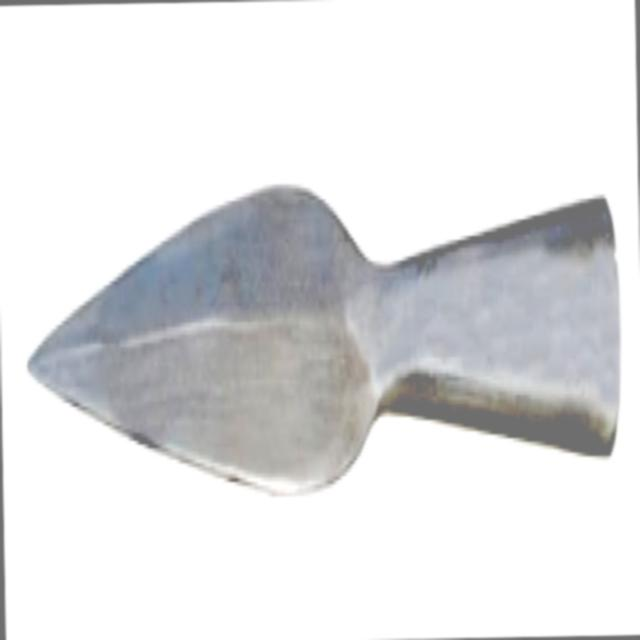spear: (11, 112, 628, 554)
